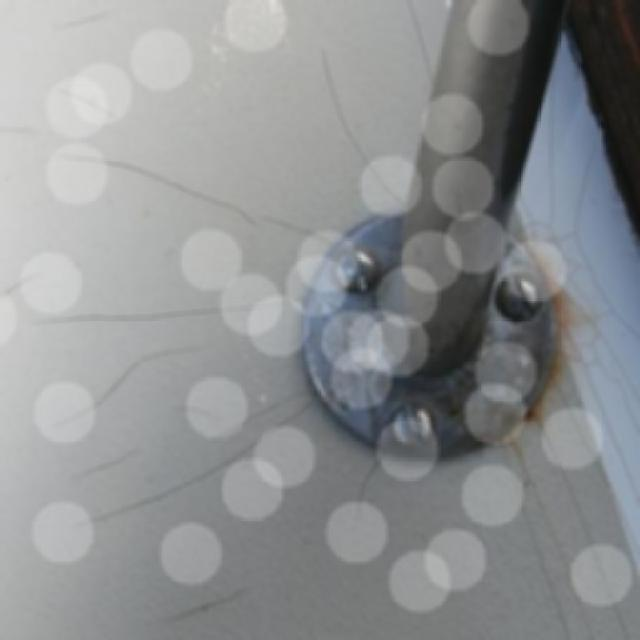crack: (68, 144, 316, 245), (34, 350, 228, 419), (56, 296, 245, 330), (151, 591, 250, 620)
